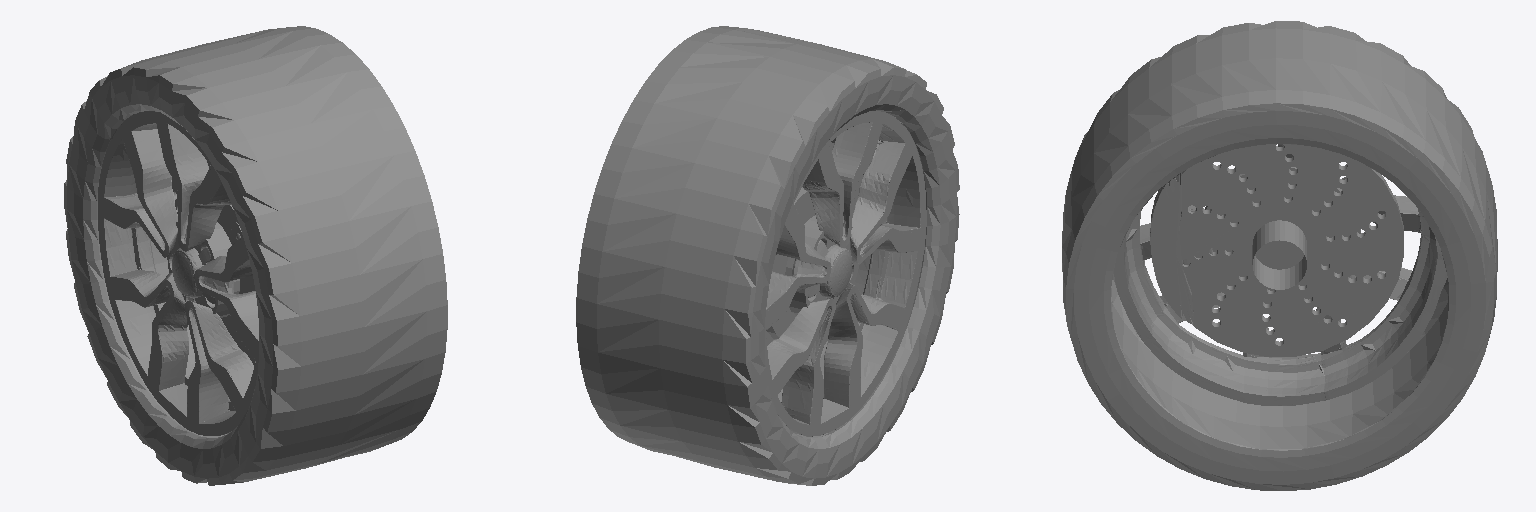
The model's file is LlantaTD.obj.
The picture shows the model from 3 angles: view 1: azimuth 30°, elevation 25°; view 2: azimuth 150°, elevation 25°; view 3: azimuth 270°, elevation 25°; orthographic projection.
Visible parts, largest first — view 1: audi_r8.005; view 2: audi_r8.005; view 3: audi_r8.005.
Part boxes in pixels (x1,y1,x2,y2): audi_r8.005: (64, 26, 447, 485); audi_r8.005: (576, 26, 959, 485); audi_r8.005: (1062, 21, 1497, 490).
Bounding box in the file's own units: 0.963 × 2.11 × 2.11.